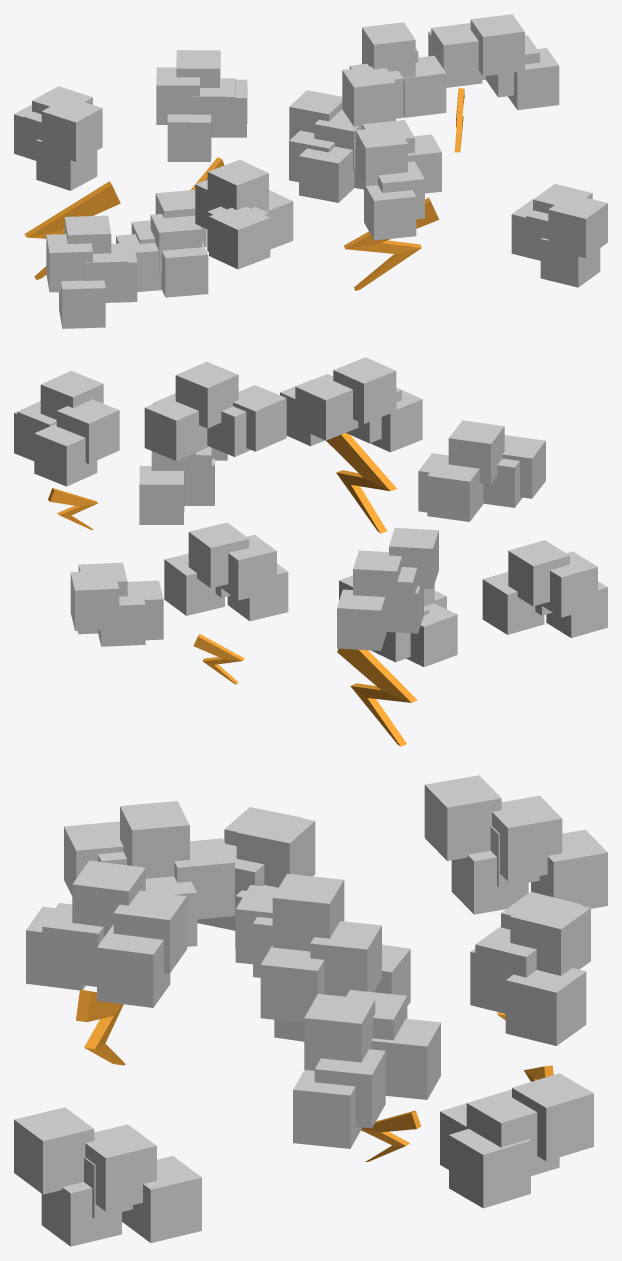
File: thunder.glb
3 views of the same model, one above another, from view 1: azimuth 30°, elevation 25°; view 2: azimuth 150°, elevation 25°; view 3: azimuth 270°, elevation 25° (orthographic). The views are drawn at different scales.
Visible parts, largest first — view 1: Cube.016, Cube.033, Cube.023, Cube.004, Cube.049, Cube.028, Cube.014, Cube.035, Cube.041, Cube.002, Plane, Plane.003 (+1 smaller); view 2: Cube.023, Cube.028, Cube.033, Cube.049, Cube.004, Cube.035, Cube.016, Cube.002, Cube.014, Cube.041, Plane.003, Plane (+2 smaller); view 3: Cube.014, Cube.035, Cube.016, Cube.033, Cube.023, Cube.004, Cube.002, Cube.028, Cube.049, Cube.041, Plane, Plane.001.
Part boxes in pixels (x1,y1,x2,y2): Cube.016: [428, 14, 559, 110]; Cube.033: [355, 120, 441, 240]; Cube.023: [342, 22, 446, 126]; Cube.004: [156, 50, 247, 161]; Cube.049: [46, 215, 137, 328]; Cube.028: [195, 159, 293, 269]; Cube.014: [511, 184, 607, 287]; Cube.035: [14, 86, 102, 190]; Cube.041: [116, 190, 208, 297]; Cube.002: [289, 90, 363, 202]; Plane: [344, 197, 439, 290]; Plane.003: [24, 181, 120, 279]; Cube.023: [144, 361, 286, 460]; Cube.028: [418, 420, 545, 521]; Cube.033: [280, 357, 422, 452]; Cube.049: [482, 540, 607, 637]; Cube.004: [164, 522, 288, 621]; Cube.035: [337, 528, 438, 650]; Cube.016: [14, 371, 119, 486]; Cube.002: [70, 562, 163, 646]; Cube.014: [139, 446, 227, 524]; Cube.041: [339, 575, 457, 667]; Plane.003: [337, 648, 417, 746]; Plane: [326, 433, 396, 533]; Cube.014: [14, 1107, 201, 1246]; Cube.035: [424, 775, 607, 914]; Cube.016: [293, 990, 440, 1148]; Cube.033: [26, 860, 186, 1007]; Cube.023: [235, 873, 381, 1022]; Cube.004: [470, 892, 590, 1045]; Cube.002: [440, 1073, 593, 1208]; Cube.028: [64, 801, 234, 946]; Cube.049: [197, 807, 315, 949]; Cube.041: [274, 944, 410, 1041]; Plane: [76, 989, 125, 1065]; Plane.001: [361, 1110, 421, 1161].
Size of the model in its own units: 28.35 by 12.02 by 20.17.
